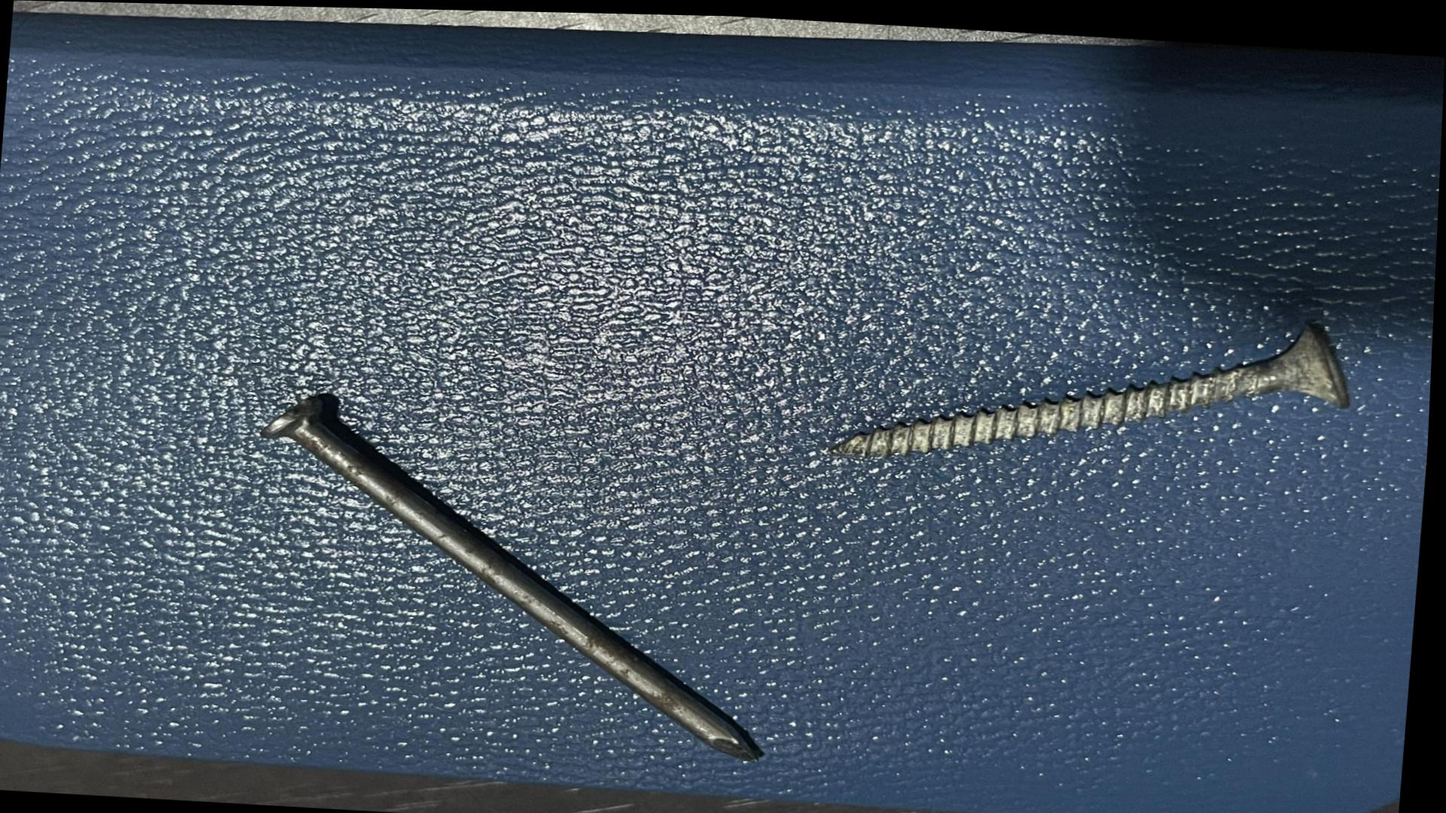nail: (233, 375, 839, 777)
screw: (826, 291, 1367, 523)
